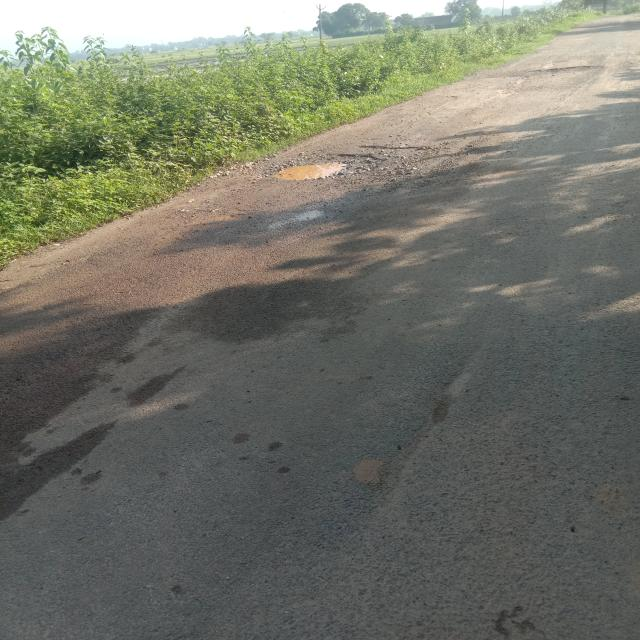potholes: (259, 146, 449, 185)
